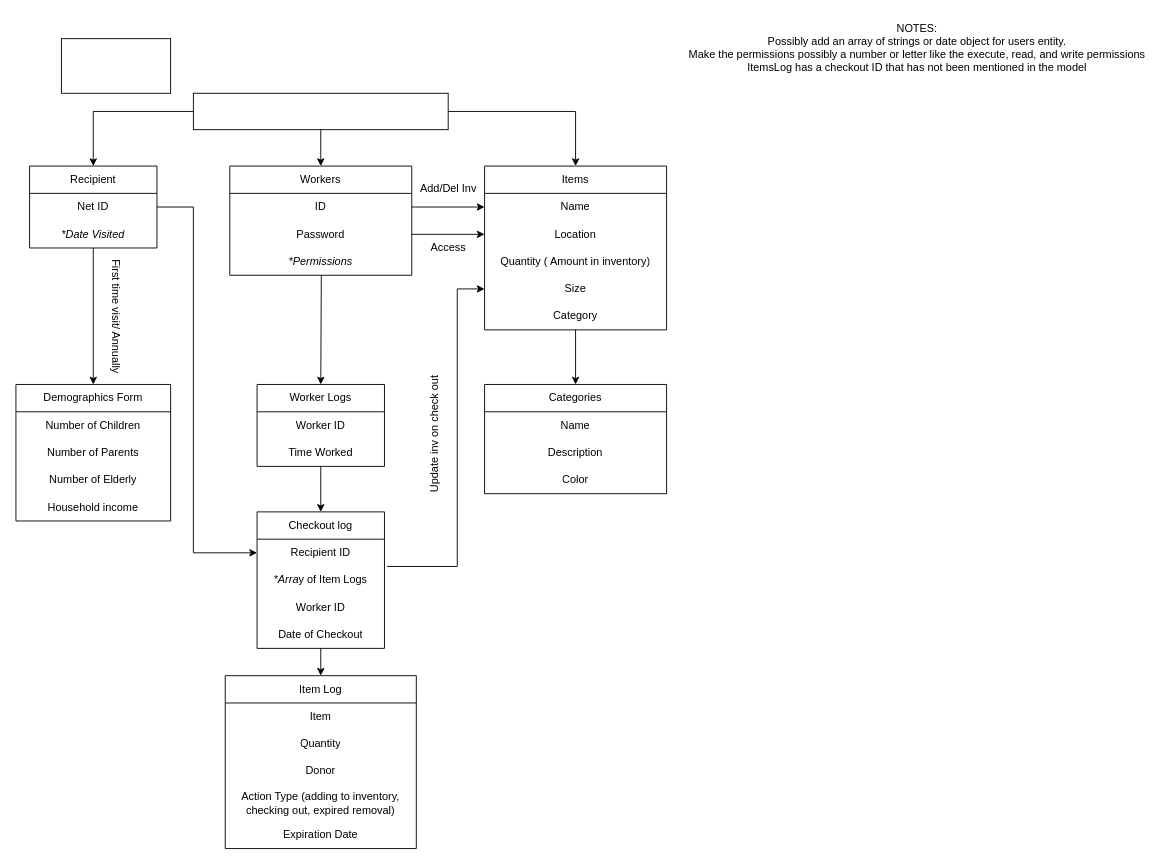
Image size: 1174x865. Some labels were removed from this diagram. Each missing label, with the centre of its shape:
*Italicized members are yet to be implemented: [116,65]
Tables: [320,111]
